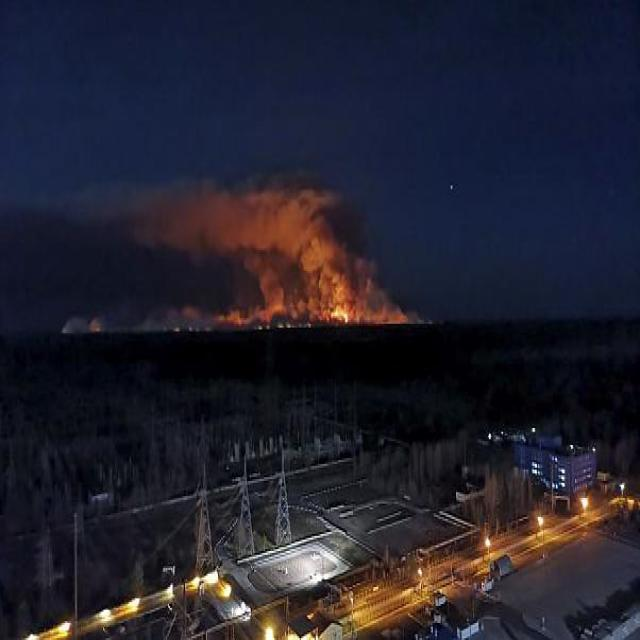Smoke: (176, 192, 377, 320)
